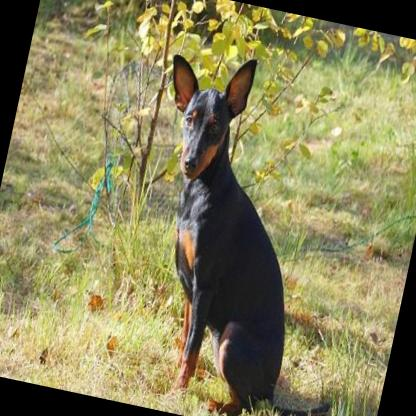miniature_pinscher: (100, 38, 400, 416)
